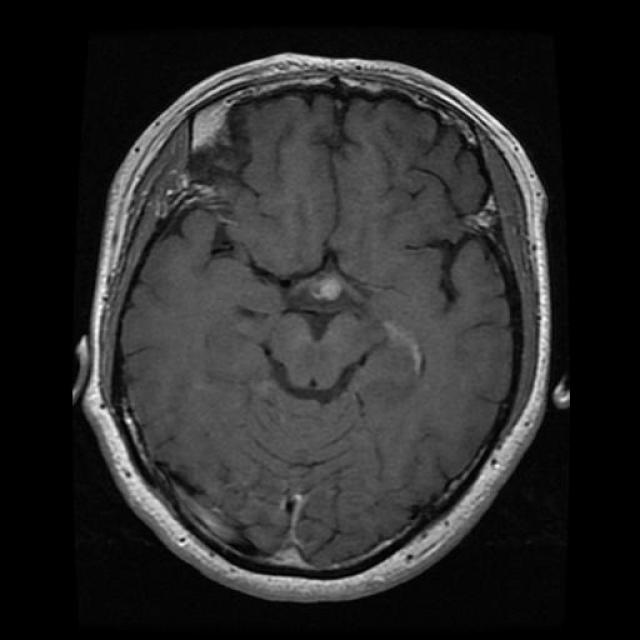Brain-Tumor: (283, 258, 368, 318)
eye: (169, 85, 255, 176)
